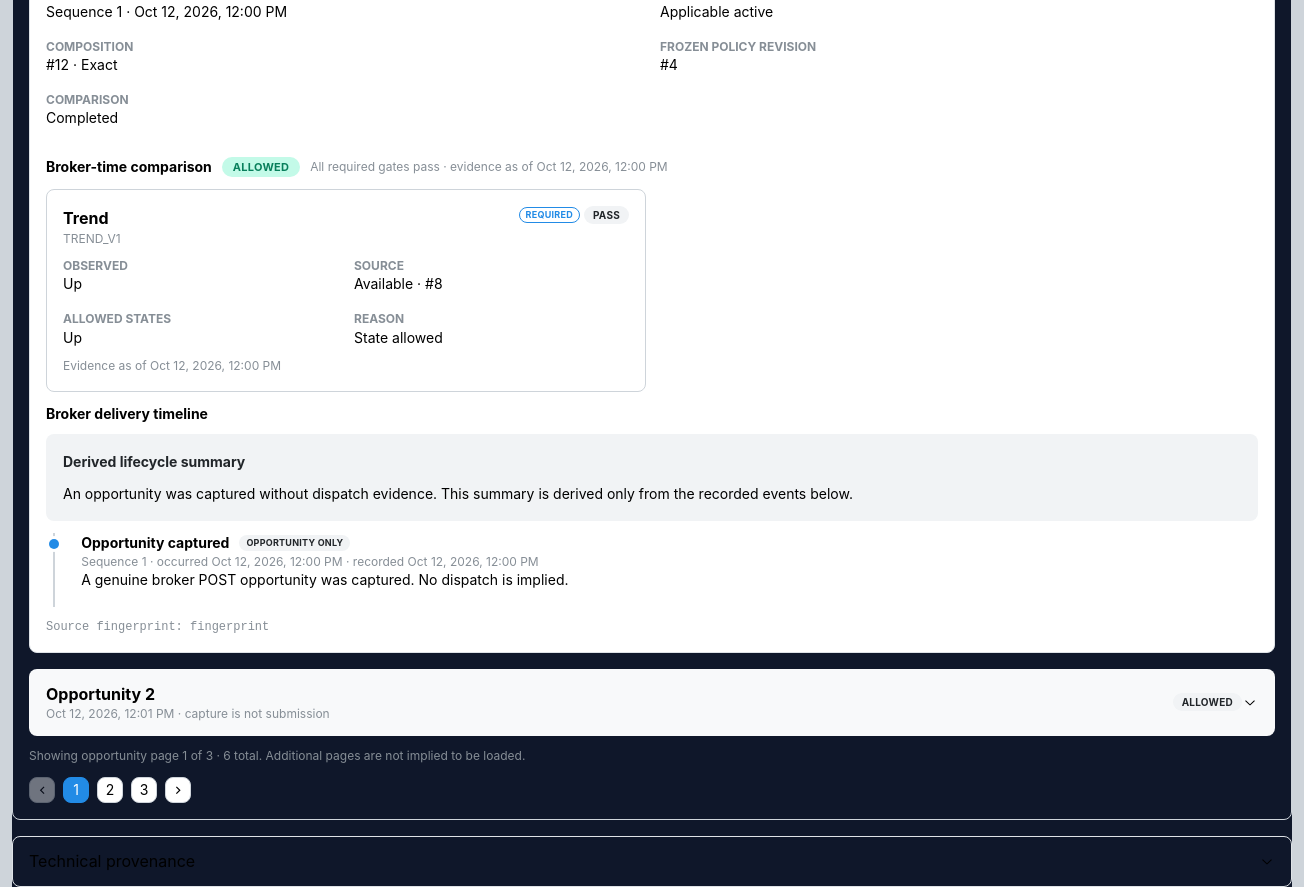
Scenario: OrderOperationalEvidence › selects among multiple opportunities and discloses pagination
(page scrolled)
Expected: the text "Additional pages are not implied to be loaded" is shown, top-left (231, 748), bottom-right (525, 763)
Step 1. Click the text "Opportunity 2" → (100, 694), box top-left (46, 684), bottom-right (155, 704)
(page scrolled)
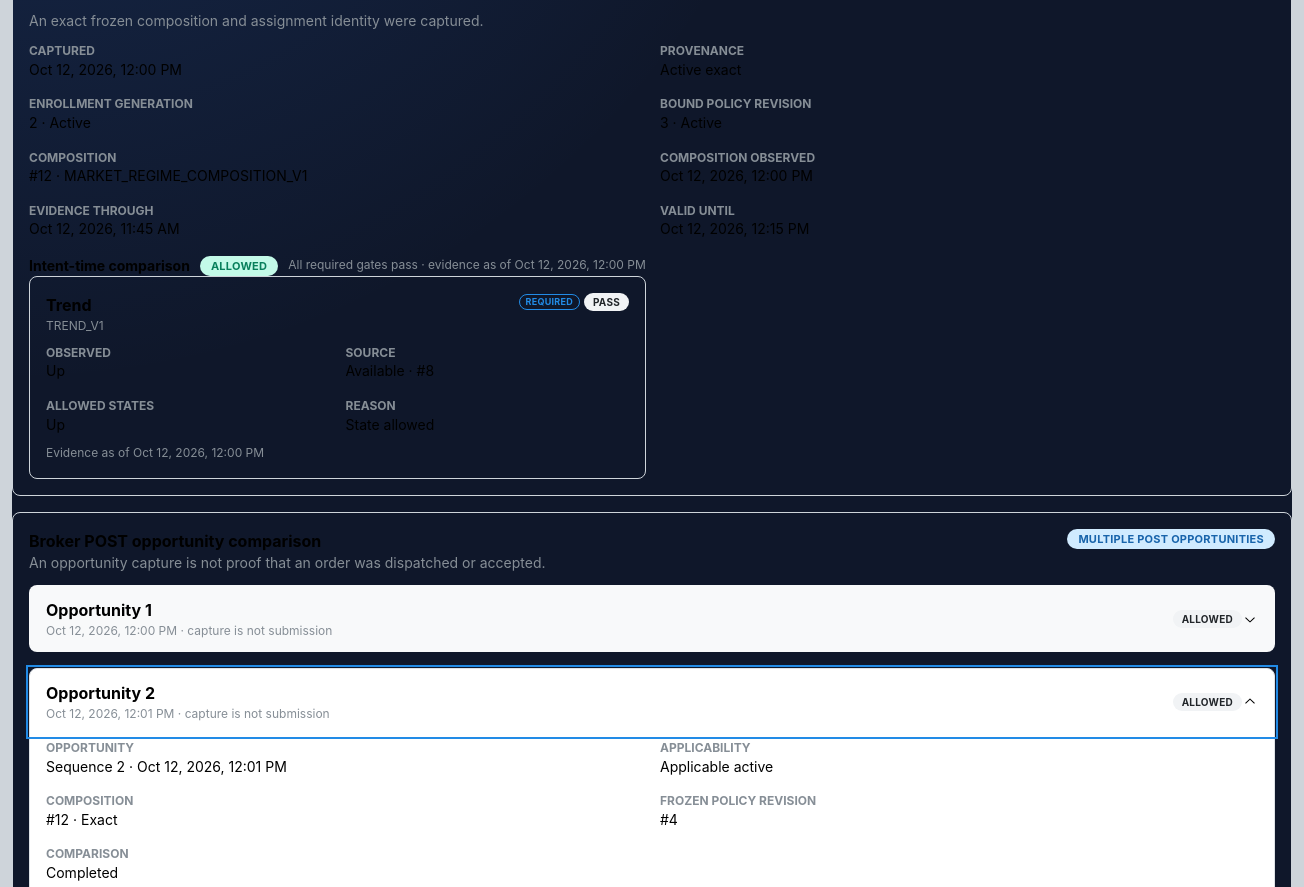
Now the text "Sequence 2 · Oct 12, 2026, 12:01 PM" is shown, box top-left (46, 758), bottom-right (287, 775)
